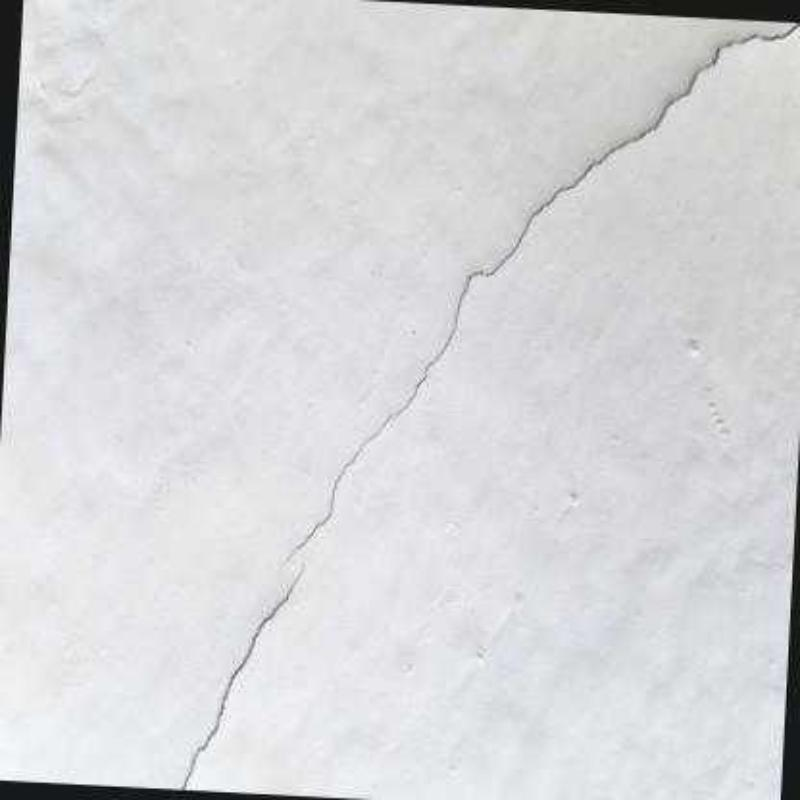pothole: (280, 20, 800, 560), (177, 553, 302, 789)
